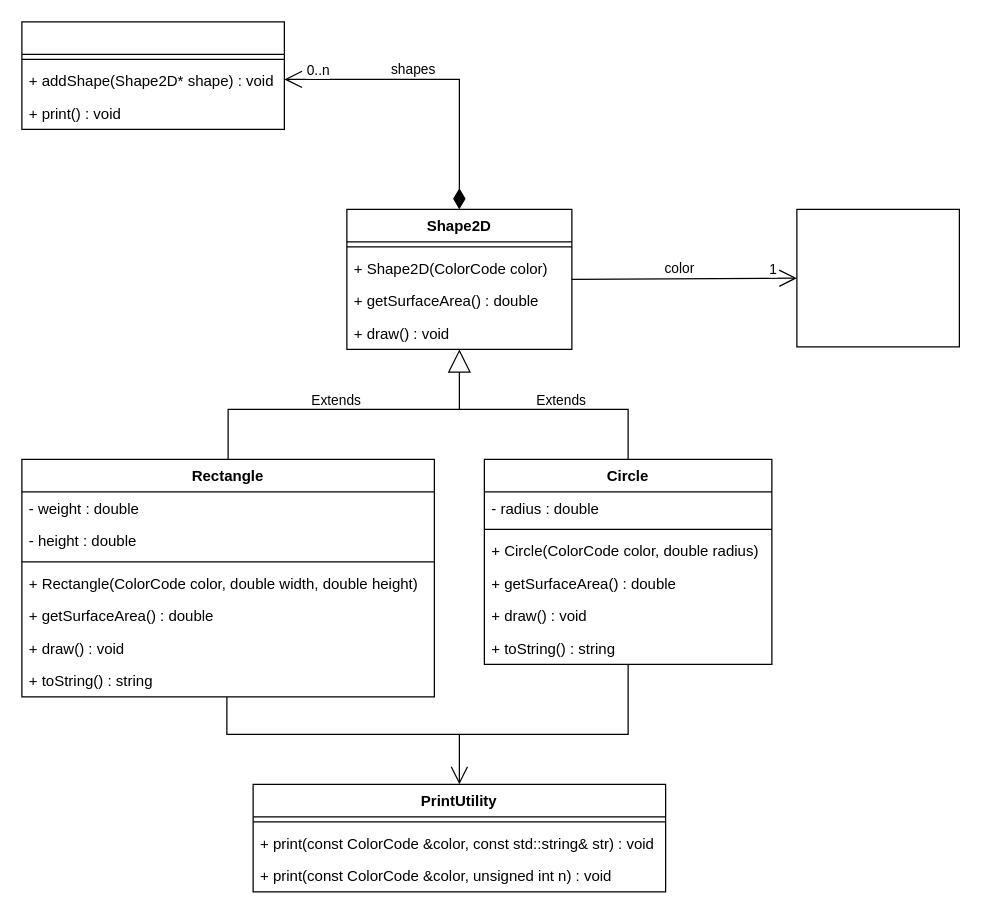
Image size: 981x918. Some labels were removed from this diagram. Each missing label, with the box of its shape:
<<enumeration>> ColorCode Red = 31 Green = 32 Blue = 34 Default = 39: (796, 208, 959, 347)
Canvas: (21, 21, 284, 129)
